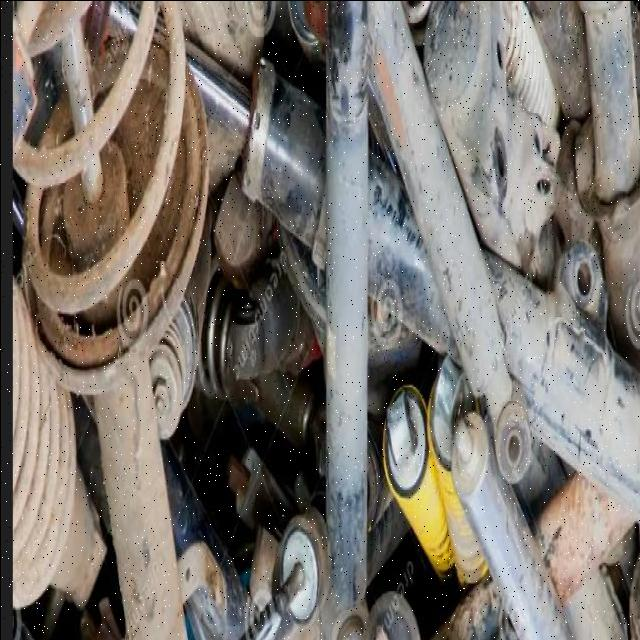shock absorber: (11, 2, 227, 637), (364, 2, 531, 482)
